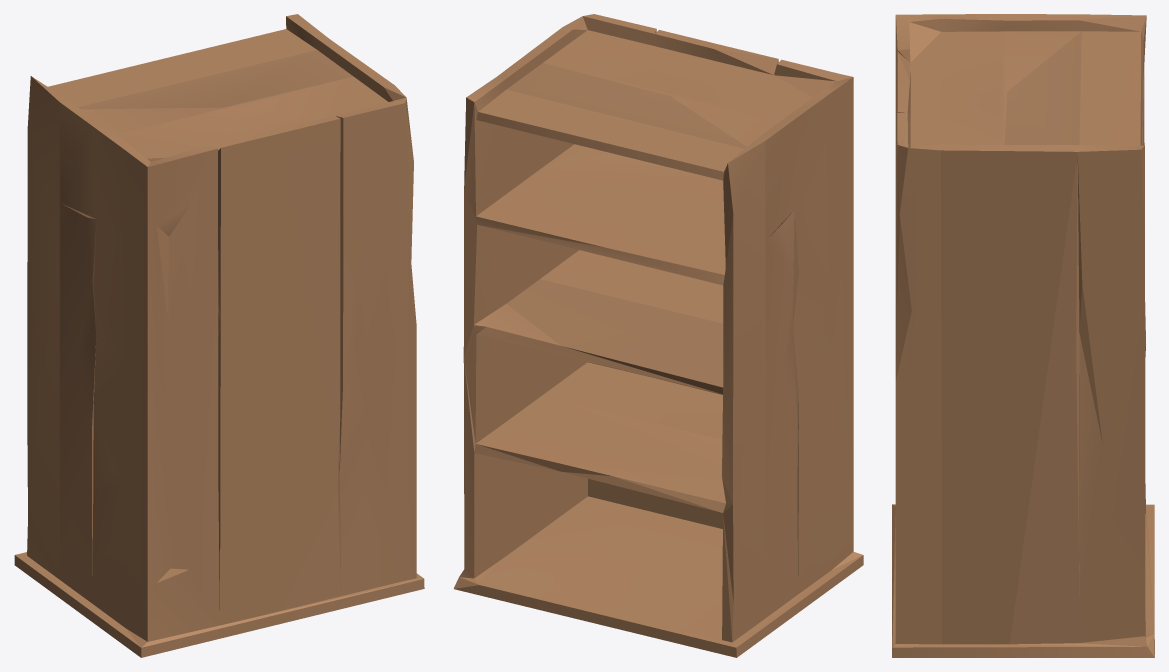
Rendered from cupboarShabby.fbx.
3 views of the same model, side by side, from view 1: azimuth 30°, elevation 25°; view 2: azimuth 150°, elevation 25°; view 3: azimuth 270°, elevation 25° (orthographic). The views are drawn at different scales.
Parts seen in each view (by area): view 1: cupboarShabby; view 2: cupboarShabby; view 3: cupboarShabby.
Part boxes in pixels (bbox=[...]): cupboarShabby: bbox=[14, 14, 424, 657]; cupboarShabby: bbox=[453, 14, 863, 657]; cupboarShabby: bbox=[892, 14, 1154, 657].
Bounding box in the file's own units: 124 × 204 × 96.12.
1 material, 1 textured.
